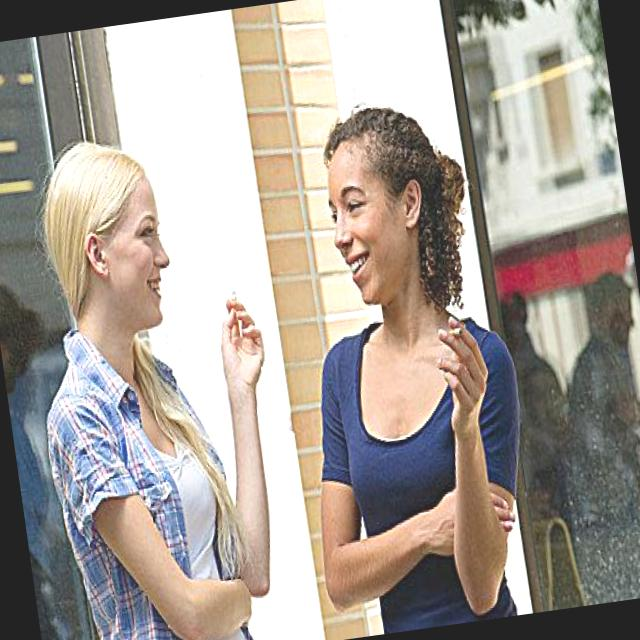cigarette: (230, 284, 244, 346), (444, 326, 464, 342)
